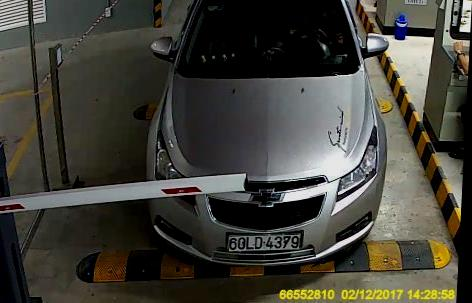License_Plate: (225, 231, 308, 253)
